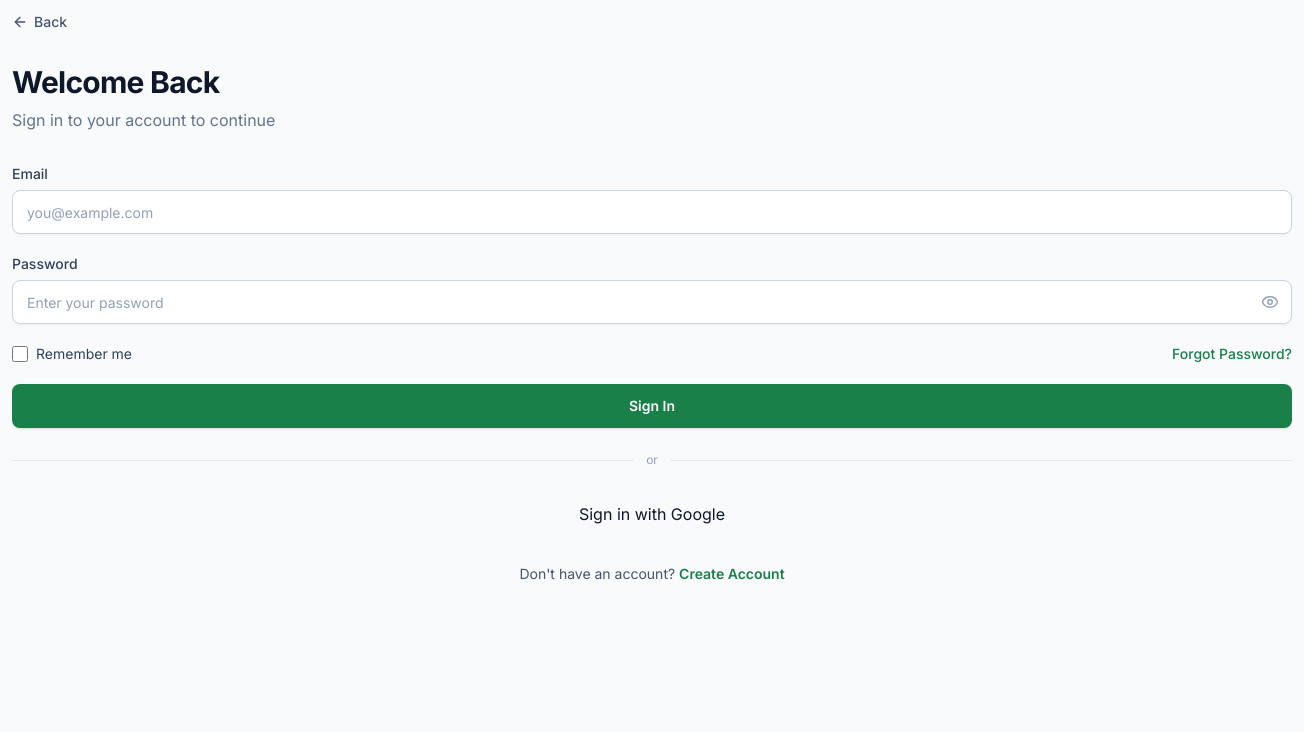
Scenario: GoogleSignInButton › shows the backend message when Google sign-in is refused
Click the button "Sign in with Google": x=652, y=514 [579, 492, 725, 536]
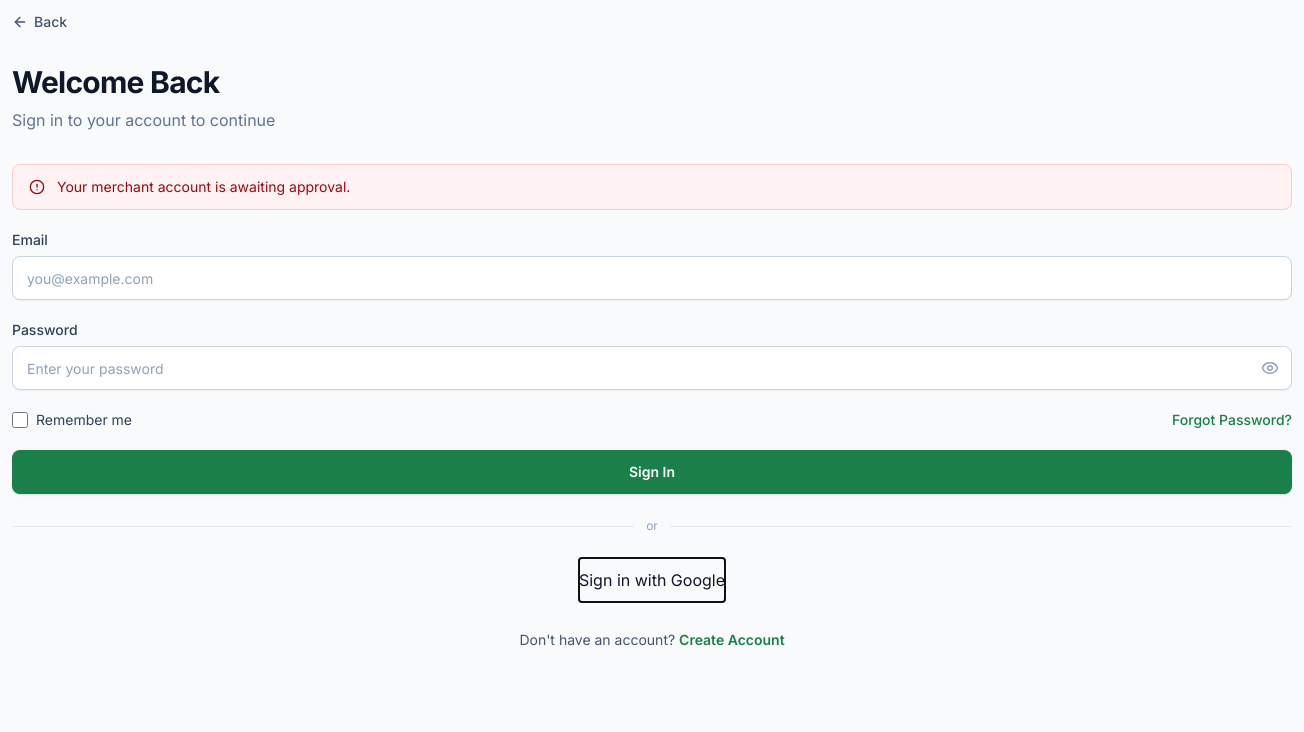
Check: the button "Sign In" is enabled, box [12, 450, 1292, 494]
Check: the text "Your merchant account is awaiting approval." is shown, box [57, 177, 350, 197]
